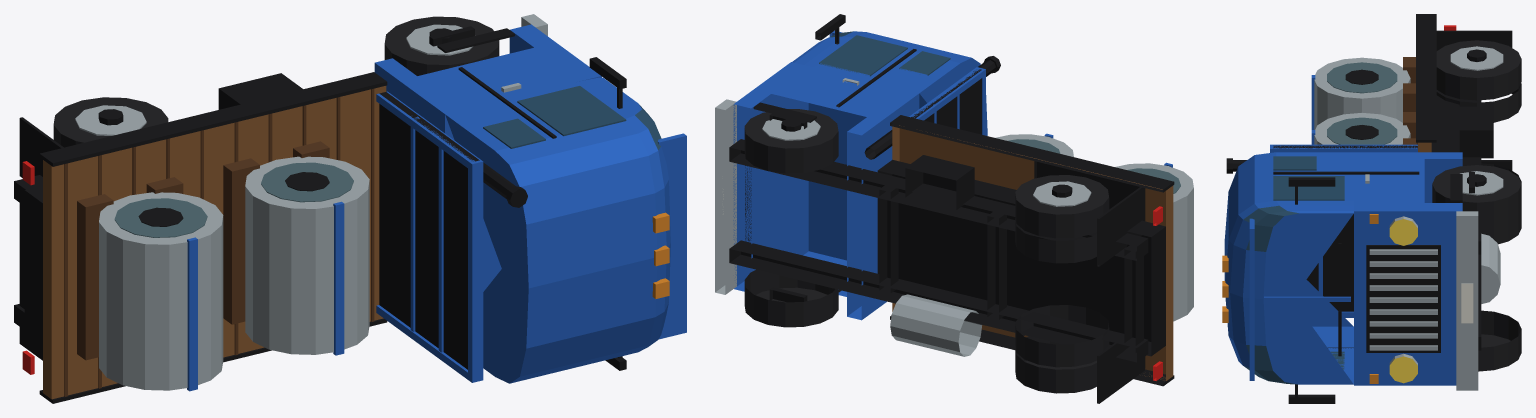
Rendered from loaded.glb.
3 views of the same model, side by side, from view 1: azimuth 30°, elevation 25°; view 2: azimuth 150°, elevation 25°; view 3: azimuth 270°, elevation 25° (orthographic). The views are drawn at different scales.
Visible parts, largest first — view 1: loaded_cab_upper, loaded_deck, loaded_coil-2.55, loaded_coil-0.45, loaded_headboard, loaded_side1_-3.60_1.67_black, loaded_cab_arch, loaded_front1, loaded_visor, loaded_rear_out1, loaded_chock-0.45-1, loaded_chock-2.55-1 (+23 smaller); view 2: loaded_subframe, loaded_cab_arch, loaded_chassis-1, loaded_deck, loaded_cab_front, loaded_cab_back, loaded_chassis1, loaded_rear_out1, loaded_front1, loaded_cab_upper, loaded_fuel_tank, loaded_bumper (+22 smaller); view 3: loaded_cab_upper, loaded_cab_front, loaded_grille, loaded_rear_out1, loaded_bumper, loaded_front1, loaded_coil-2.55, loaded_cab_arch, loaded_headboard, loaded_side1_-3.60_1.67_black, loaded_front-1, loaded_battery_box (+35 smaller).
Boxes of the visible parts, <box> form: loaded_cab_upper: <box>445,77,670,383</box>; loaded_deck: <box>43,86,386,399</box>; loaded_coil-2.55: <box>99,192,223,390</box>; loaded_coil-0.45: <box>245,156,369,354</box>; loaded_headboard: <box>379,92,479,369</box>; loaded_side1_-3.60_1.67_black: <box>39,72,387,166</box>; loaded_cab_arch: <box>417,47,579,291</box>; loaded_front1: <box>384,16,499,75</box>; loaded_visor: <box>657,133,686,339</box>; loaded_rear_out1: <box>53,97,168,147</box>; loaded_chock-0.45-1: <box>223,158,259,324</box>; loaded_chock-2.55-1: <box>77,194,113,360</box>; loaded_subframe: <box>877,159,1165,356</box>; loaded_cab_arch: <box>771,66,903,296</box>; loaded_chassis-1: <box>729,240,1148,362</box>; loaded_deck: <box>892,125,1173,380</box>; loaded_cab_front: <box>733,62,808,291</box>; loaded_cab_back: <box>847,89,919,320</box>; loaded_chassis1: <box>729,139,1148,260</box>; loaded_rear_out1: <box>1015,175,1109,238</box>; loaded_front1: <box>744,109,838,173</box>; loaded_cab_upper: <box>792,31,987,135</box>; loaded_fuel_tank: <box>890,294,982,356</box>; loaded_bumper: <box>715,99,736,294</box>; loaded_cab_upper: <box>1224,152,1353,384</box>; loaded_cab_front: <box>1354,203,1462,385</box>; loaded_grille: <box>1366,245,1440,352</box>; loaded_rear_out1: <box>1436,40,1521,100</box>; loaded_bumper: <box>1456,211,1478,390</box>; loaded_front1: <box>1432,165,1521,226</box>; loaded_coil-2.55: <box>1314,57,1410,129</box>; loaded_cab_arch: <box>1354,159,1424,202</box>; loaded_headboard: <box>1273,145,1417,311</box>; loaded_side1_-3.60_1.67_black: <box>1416,14,1436,142</box>; loaded_front-1: <box>1478,310,1521,371</box>; loaded_battery_box: <box>1459,106,1493,158</box>.
Size of the model in its own units: 7.61 by 3.98 by 4.82.
